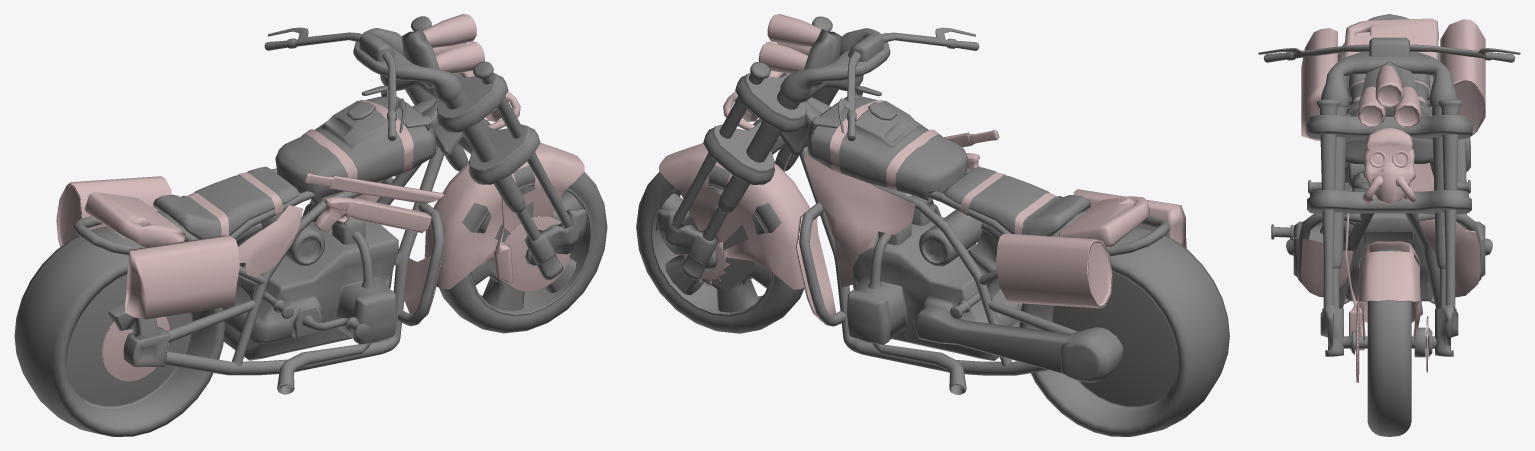
File: motocycle lowpoly.fbx
3 views of the same model, side by side, from view 1: azimuth 30°, elevation 25°; view 2: azimuth 150°, elevation 25°; view 3: azimuth 270°, elevation 25° (orthographic).
Visible parts, largest first — view 1: polySurface250, polySurface193; view 2: polySurface250, polySurface193; view 3: polySurface250, polySurface193.
Boxes of the visible parts, left/top/right/bottom form: polySurface250: left=14, top=16, right=607, bottom=436; polySurface193: left=56, top=14, right=584, bottom=381; polySurface250: left=636, top=16, right=1229, bottom=436; polySurface193: left=659, top=14, right=1186, bottom=337; polySurface250: left=1258, top=14, right=1520, bottom=436; polySurface193: left=1301, top=18, right=1485, bottom=382.
Size of the model in its own units: 13.13 by 7.14 by 5.27.
